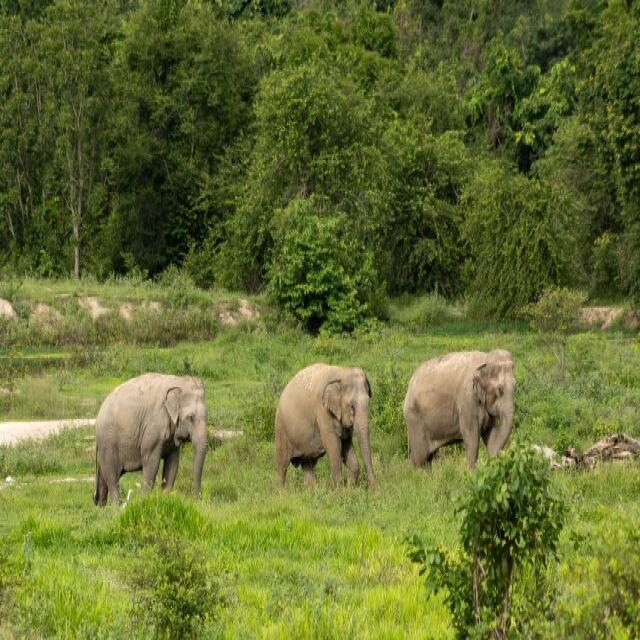Elephant: (83, 343, 216, 512), (399, 333, 526, 492), (265, 344, 383, 509)
